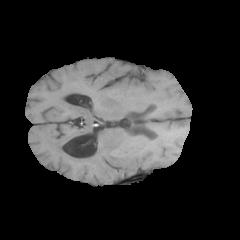glioma: (50, 136, 159, 183)
